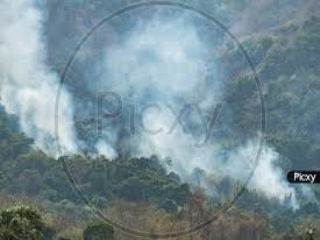smoke: (5, 36, 84, 160), (133, 111, 223, 184), (235, 135, 313, 206), (95, 107, 122, 163)
